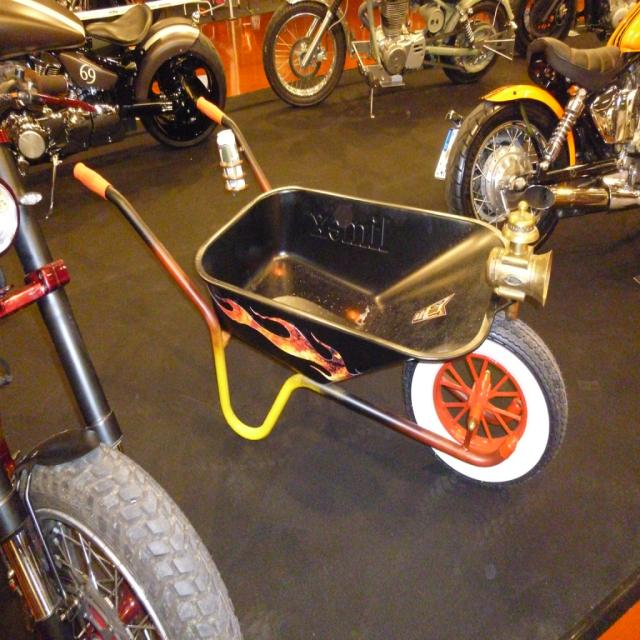Motorbikes: (449, 13, 640, 254), (1, 1, 231, 170)
